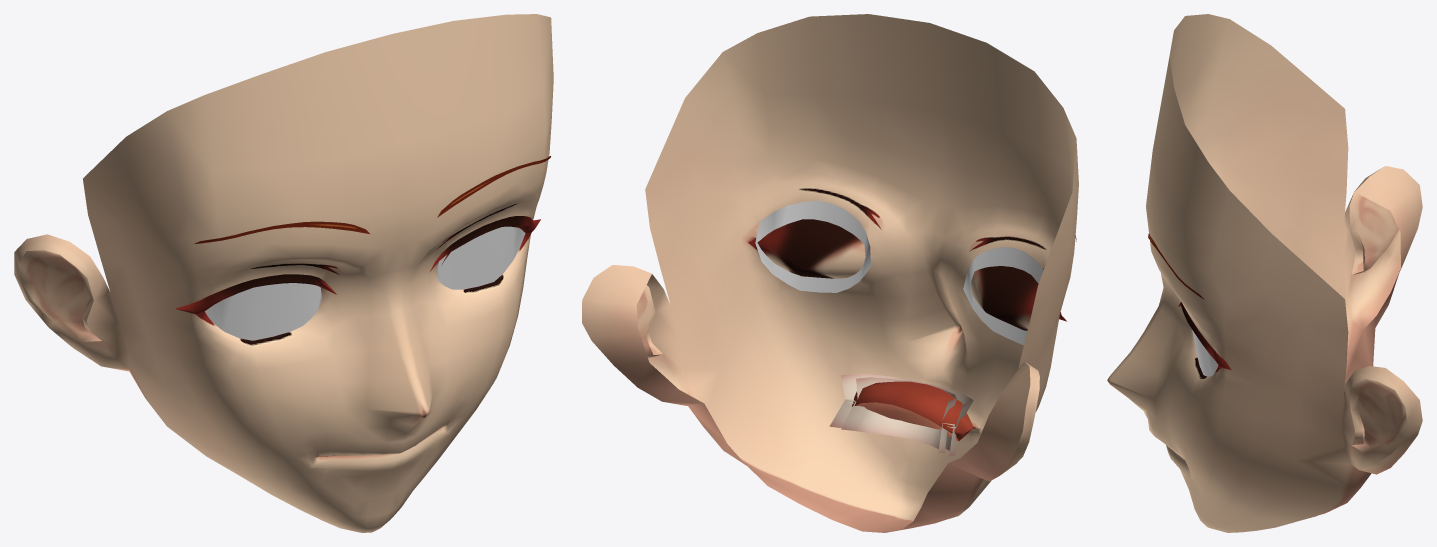
Rendered from Yuta.fbx.
3 renders of one model, left to right at view 1: azimuth 30°, elevation 25°; view 2: azimuth 150°, elevation 25°; view 3: azimuth 270°, elevation 25°, orthographic. The views are drawn at different scales.
Visible parts, largest first — view 1: M_Head, M_Eye_B_Def, M_Mth_B_Def, M_PupALL_R_A_Def, M_PupALL_L_A_Def, M_Brw_B_Def; view 2: M_Head, M_Eye_B_Def, M_Mth_B_Def, M_PupALL_L_A_Def, M_PupALL_R_A_Def; view 3: M_Head, M_Eye_B_Def, M_Mth_B_Def, M_PupALL_L_A_Def.
Part boxes in pixels (x1=…): M_Head: x1=14, y1=14, x2=553, y2=403; M_Eye_B_Def: x1=136, y1=121, x2=551, y2=418; M_Mth_B_Def: x1=129, y1=357, x2=504, y2=532; M_PupALL_R_A_Def: x1=205, y1=283, x2=321, y2=340; M_PupALL_L_A_Def: x1=436, y1=226, x2=525, y2=289; M_Brw_B_Def: x1=194, y1=156, x2=550, y2=243; M_Head: x1=582, y1=14, x2=1078, y2=481; M_Eye_B_Def: x1=694, y1=129, x2=1076, y2=410; M_Mth_B_Def: x1=688, y1=327, x2=1037, y2=532; M_PupALL_L_A_Def: x1=755, y1=200, x2=871, y2=292; M_PupALL_R_A_Def: x1=963, y1=247, x2=1043, y2=344; M_Head: x1=1146, y1=14, x2=1422, y2=474; M_Eye_B_Def: x1=1107, y1=104, x2=1264, y2=455; M_Mth_B_Def: x1=1108, y1=319, x2=1375, y2=532; M_PupALL_L_A_Def: x1=1192, y1=330, x2=1218, y2=376.
Size of the model in its own units: 0.1737 by 0.1757 by 0.1062.
Materials: 5 (3 with a texture image).
